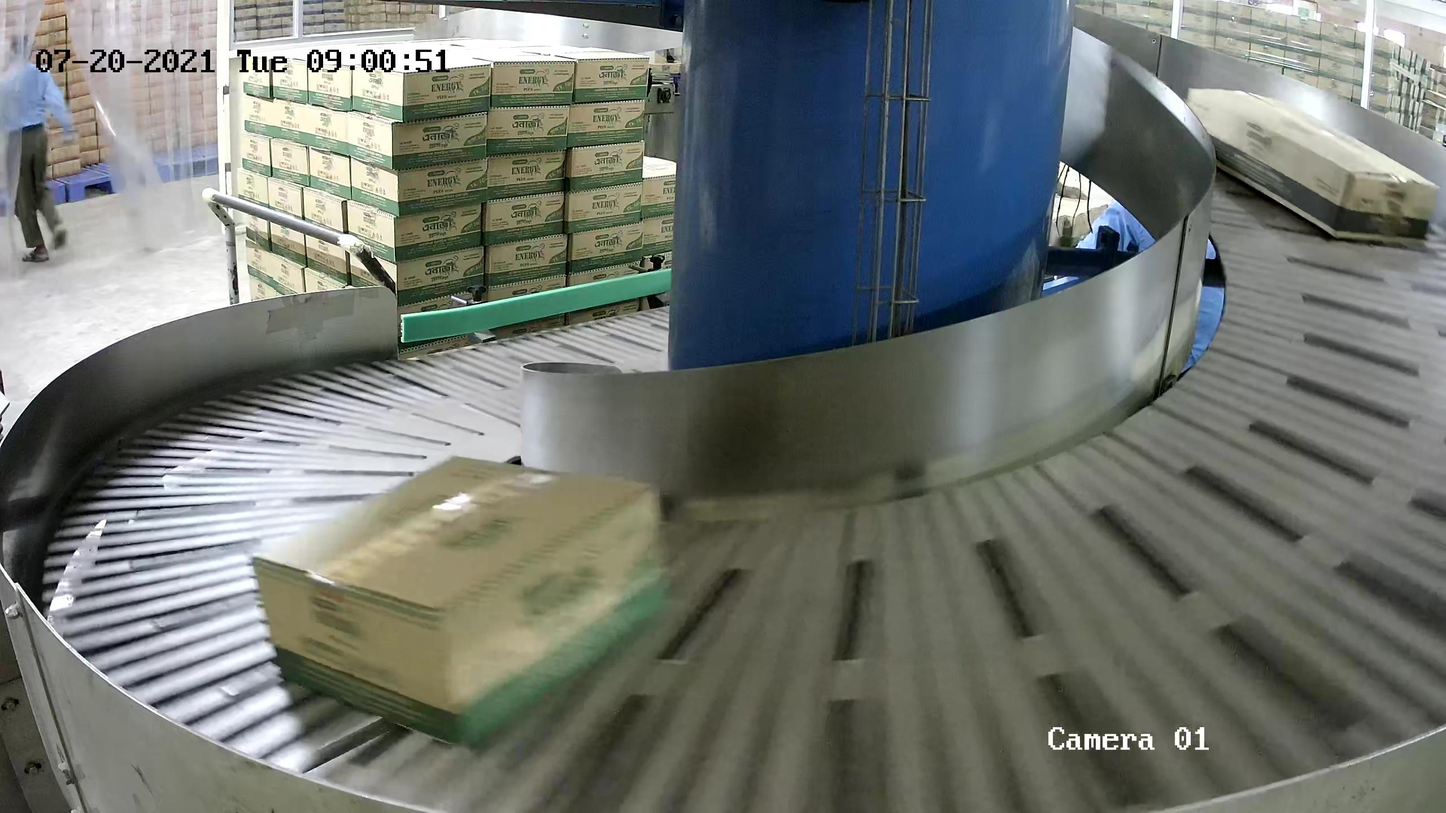Box: (249, 453, 674, 751), (1181, 88, 1442, 247)
